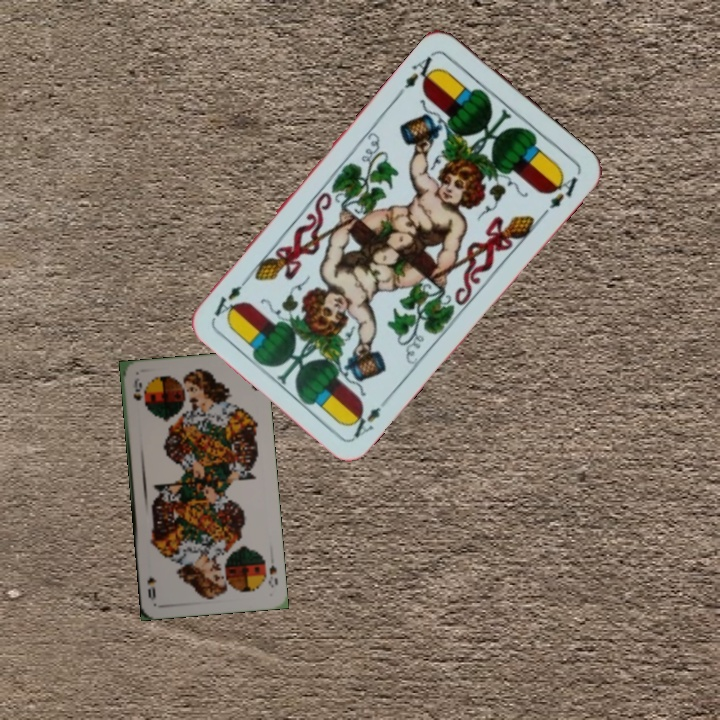EA: (344, 392, 393, 441), (394, 48, 441, 98)
SO: (264, 561, 280, 590), (129, 375, 145, 403)
